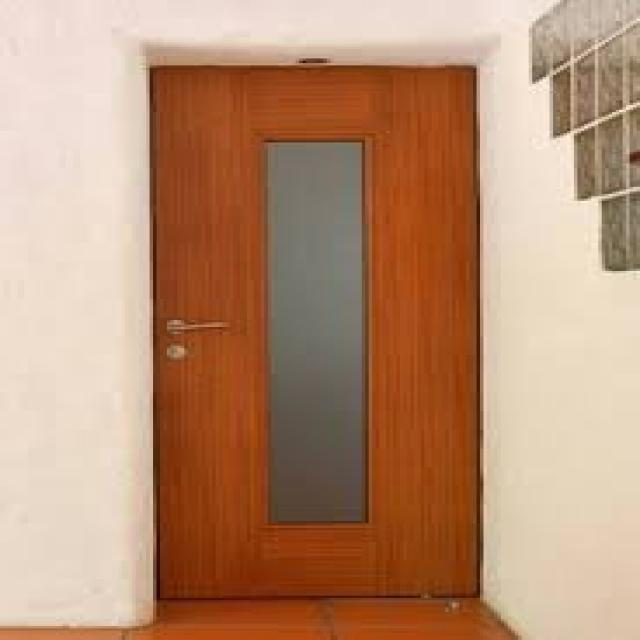door: (150, 63, 480, 600)
